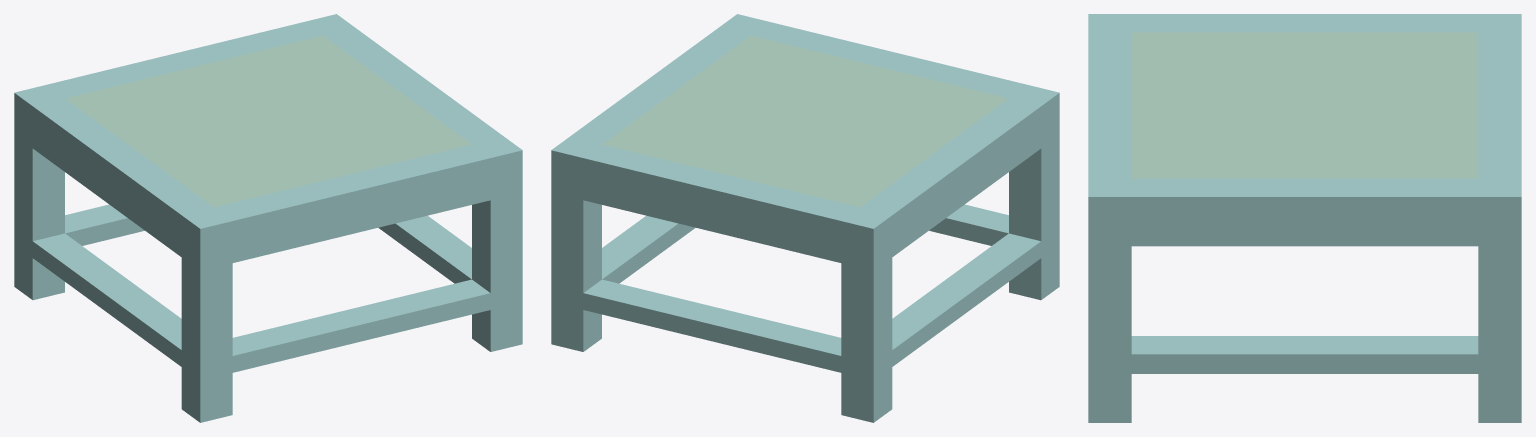
Rendered from tableCoffeeGlassSquare.glb.
3 views of the same model, side by side, from view 1: azimuth 30°, elevation 25°; view 2: azimuth 150°, elevation 25°; view 3: azimuth 270°, elevation 25° (orthographic). The views are drawn at different scales.
Bounding box in the file's own units: 4 × 2.3 × 4.
